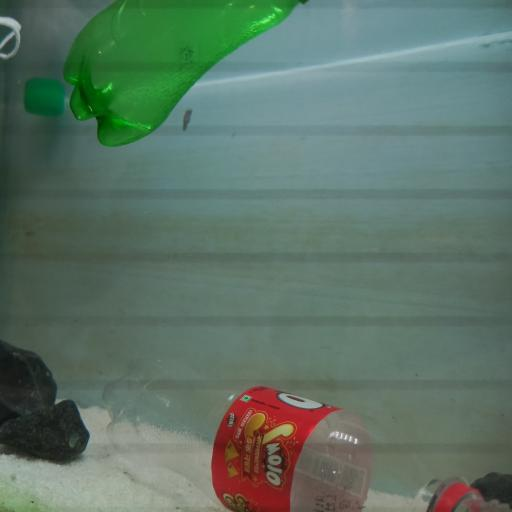bottle_cap: (25, 90, 65, 116)
plastic_bottle: (102, 363, 480, 512), (65, 0, 302, 148)
